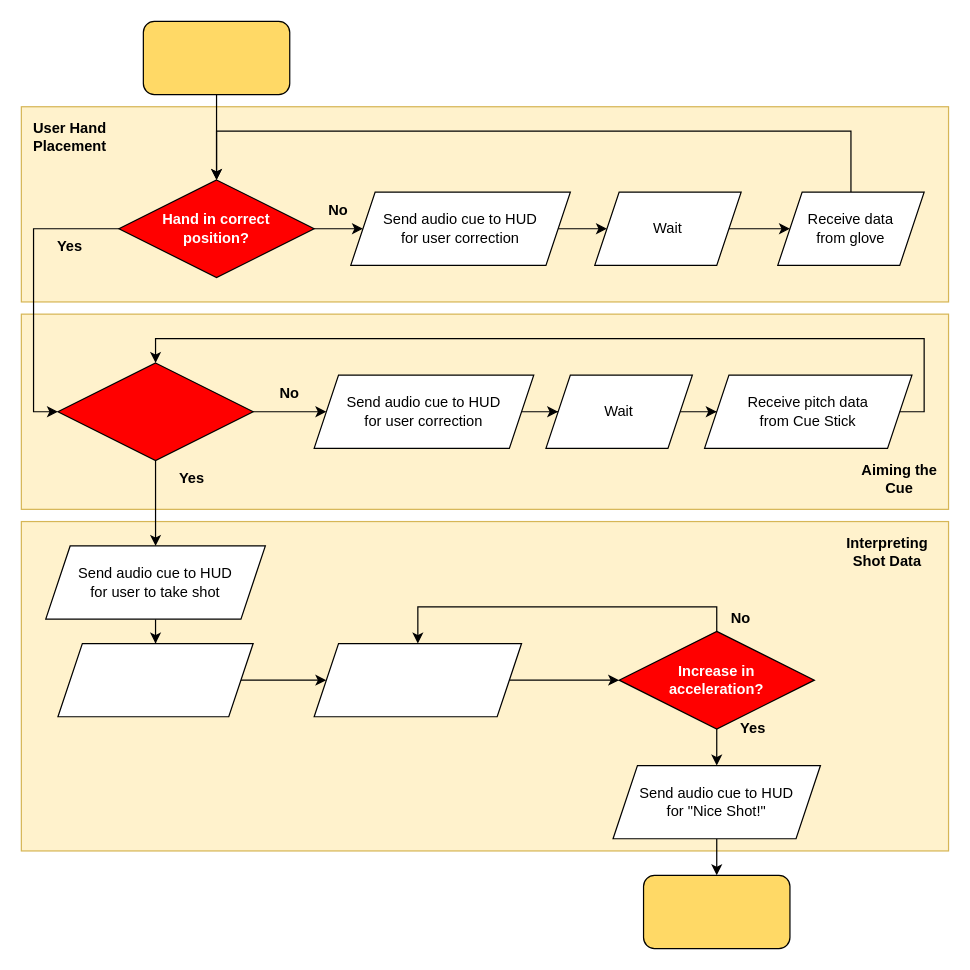
Some shapes in this 970 by 970 pixel diagram are drawn without their labels. Each missing label, with the centre of its shape:
Cue aimed at center?: the point at 155,411
End: the point at 716,911
Receive data from Cue Stick: the point at 417,679
Start: the point at 216,57
Wait for Cue Stick notification of shot attempt: the point at 155,679
